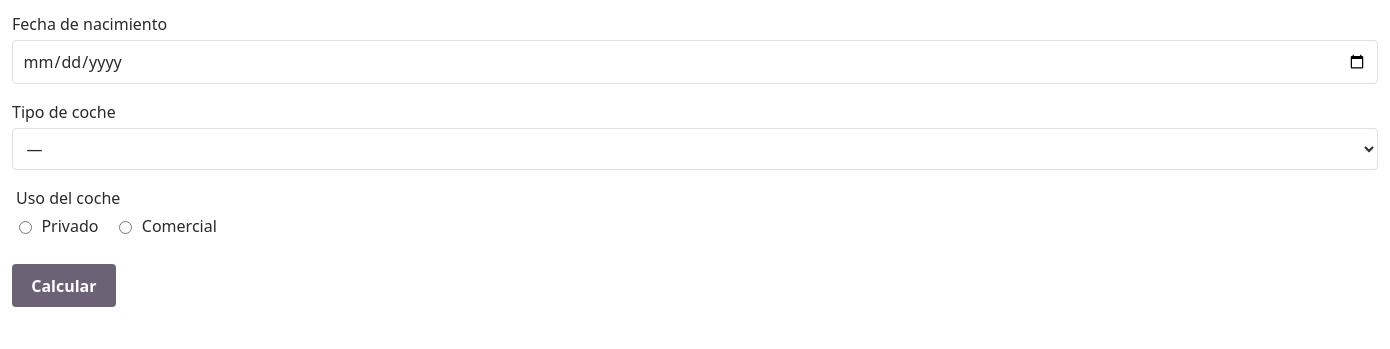
QuoteForm › rejects an under-18 birthday with an inline error
In the date field named "driver_birthday": (695, 62) [12,40,1378,84], type "2020-01-01"
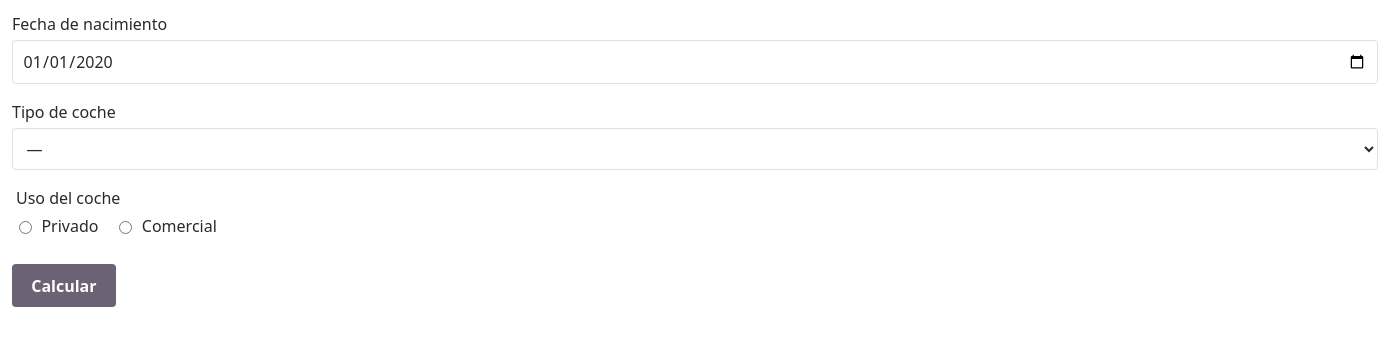
Leave the date field named "driver_birthday", box [12,40,1378,84]
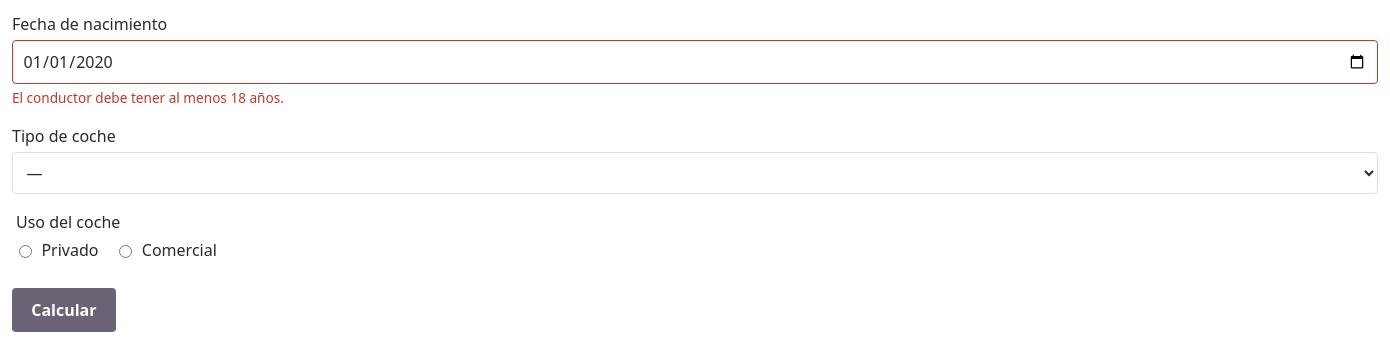
expect the text "18 años" is shown: met, box [12,88,284,107]
